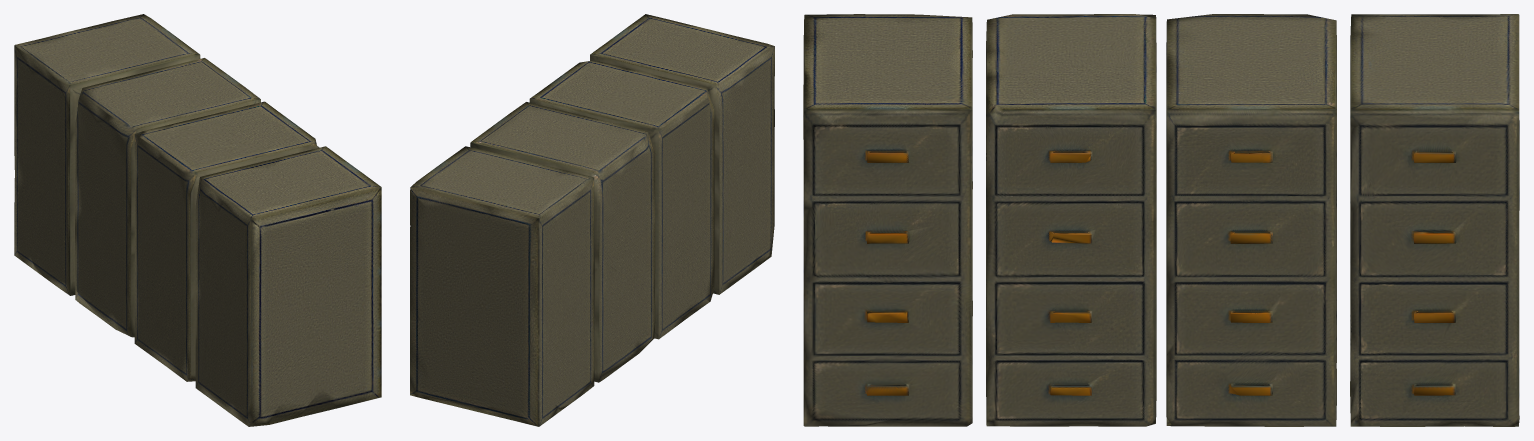
Rendered from FilingCabinets.fbx.
The picture shows the model from 3 angles, left to right: view 1: azimuth 30°, elevation 25°; view 2: azimuth 150°, elevation 25°; view 3: azimuth 270°, elevation 25°; orthographic projection. The views are drawn at different scales.
Visible parts, largest first — view 1: tripo_node_9c2c4bc6-8b5c-4beb-a5e4-efae46421c2e; view 2: tripo_node_9c2c4bc6-8b5c-4beb-a5e4-efae46421c2e; view 3: tripo_node_9c2c4bc6-8b5c-4beb-a5e4-efae46421c2e.
Part boxes in pixels (x1,y1,x2,y2): tripo_node_9c2c4bc6-8b5c-4beb-a5e4-efae46421c2e: (14,14,381,426); tripo_node_9c2c4bc6-8b5c-4beb-a5e4-efae46421c2e: (410,14,774,426); tripo_node_9c2c4bc6-8b5c-4beb-a5e4-efae46421c2e: (803,14,1519,426).
Size of the model in its own units: 32.72 by 49 by 100.
Materials: 1 (1 with a texture image).
